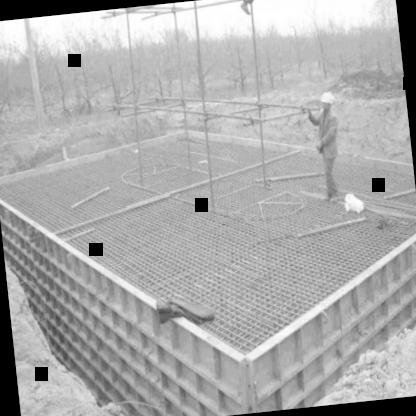helmet: (320, 86, 336, 115)
